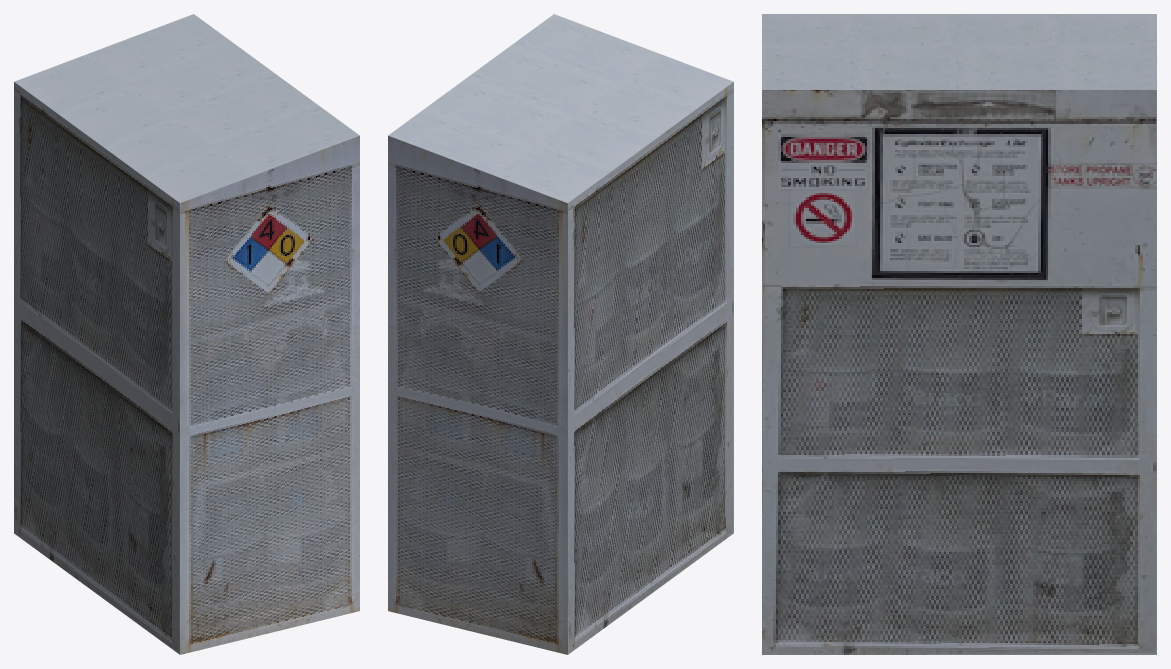
Rendered from propane_storage.glb.
3 renders of one model, left to right at view 1: azimuth 30°, elevation 25°; view 2: azimuth 150°, elevation 25°; view 3: azimuth 270°, elevation 25°, orthographic. The views are drawn at different scales.
Parts seen in each view (by area): view 1: Propane_Storage; view 2: Propane_Storage; view 3: Propane_Storage.
Part boxes in pixels (x1,y1,x2,y2): Propane_Storage: (14,14,359,654); Propane_Storage: (388,14,733,654); Propane_Storage: (762,14,1156,654).
Size of the model in its own units: 0.762 by 1.93 by 1.22.
1 material, 1 textured.
